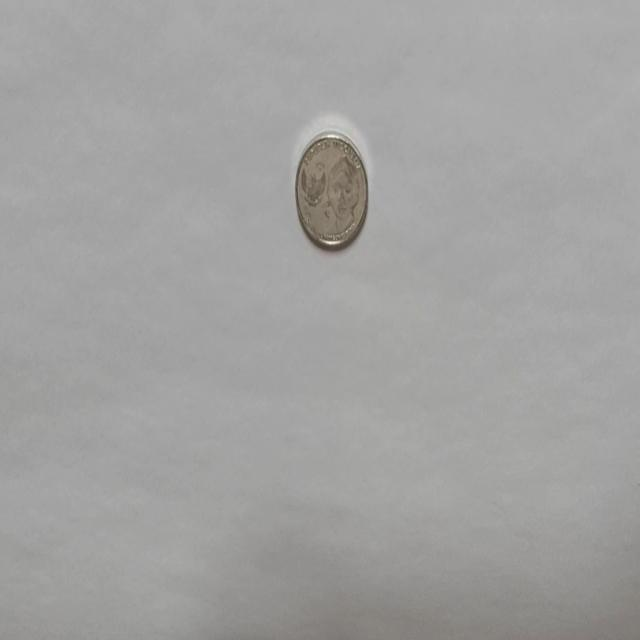dua ratus rupiah: (294, 129, 368, 250)
